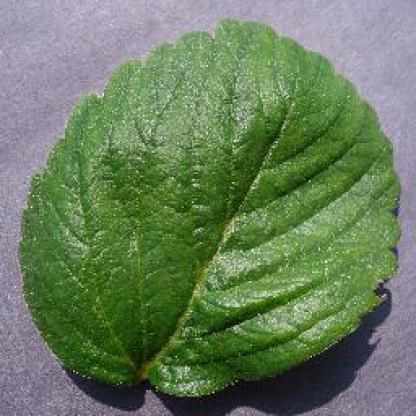healthy: (16, 16, 405, 410)
